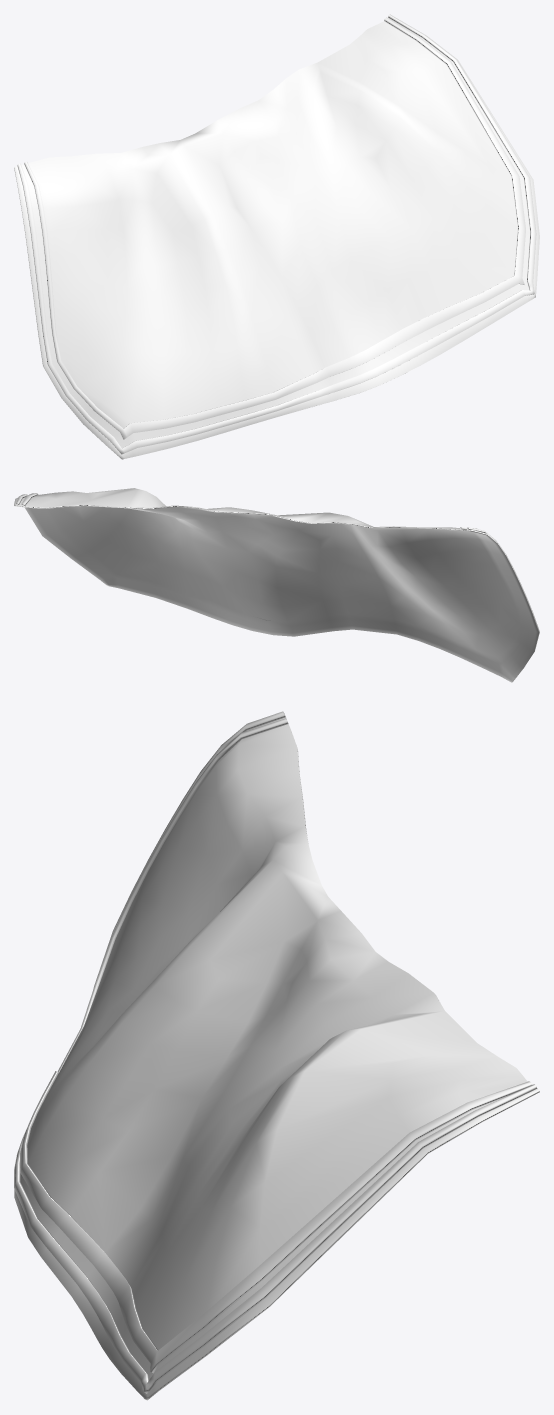
File: Jac_Pocket_RIGHT_V1.glb
3 views of the same model, one above another, from view 1: azimuth 30°, elevation 25°; view 2: azimuth 150°, elevation 25°; view 3: azimuth 270°, elevation 25° (orthographic). The views are drawn at different scales.
Parts seen in each view (by area): view 1: Jac_Pocket_RIGHT_V1.001, Jac_Rope_Pocket_RIGHT_V1.001; view 2: Jac_Pocket_RIGHT_V1.001, Jac_Rope_Pocket_RIGHT_V1.001; view 3: Jac_Pocket_RIGHT_V1.001, Jac_Rope_Pocket_RIGHT_V1.001.
Part boxes in pixels (x1=…): Jac_Pocket_RIGHT_V1.001: x1=14, y1=18, x2=539, y2=459; Jac_Rope_Pocket_RIGHT_V1.001: x1=17, y1=14, x2=536, y2=454; Jac_Pocket_RIGHT_V1.001: x1=14, y1=488, x2=539, y2=682; Jac_Rope_Pocket_RIGHT_V1.001: x1=16, y1=493, x2=496, y2=620; Jac_Pocket_RIGHT_V1.001: x1=14, y1=712, x2=539, y2=1400; Jac_Rope_Pocket_RIGHT_V1.001: x1=14, y1=711, x2=537, y2=1393.
Bounding box in the file's own units: 0.2129 × 0.0931 × 0.1168.
Materials: 2 (2 with a texture image).
